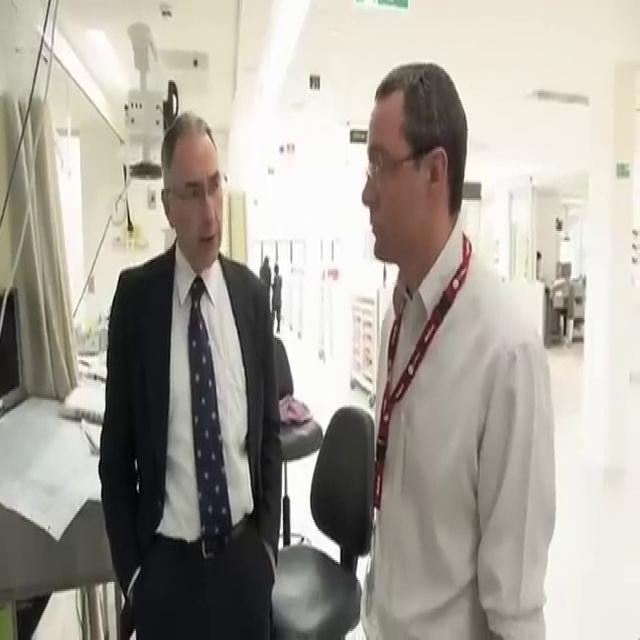doctor: (357, 60, 556, 638), (98, 109, 282, 638)
monitor: (0, 284, 27, 418)
